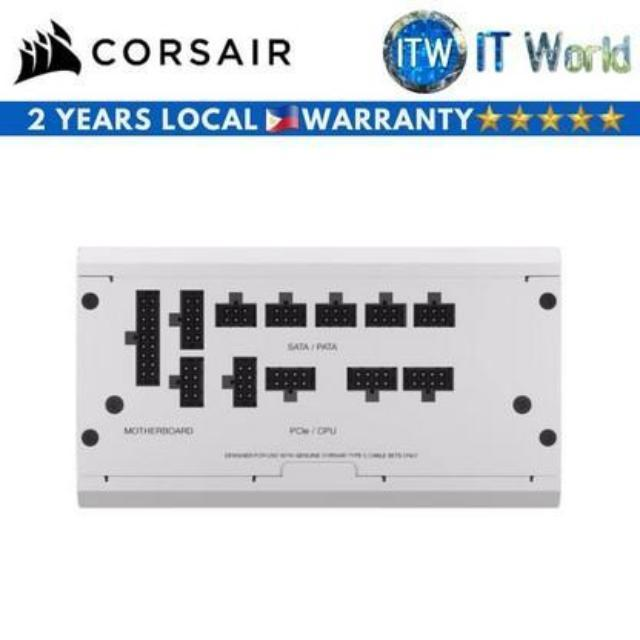PSU: (67, 227, 573, 525)
